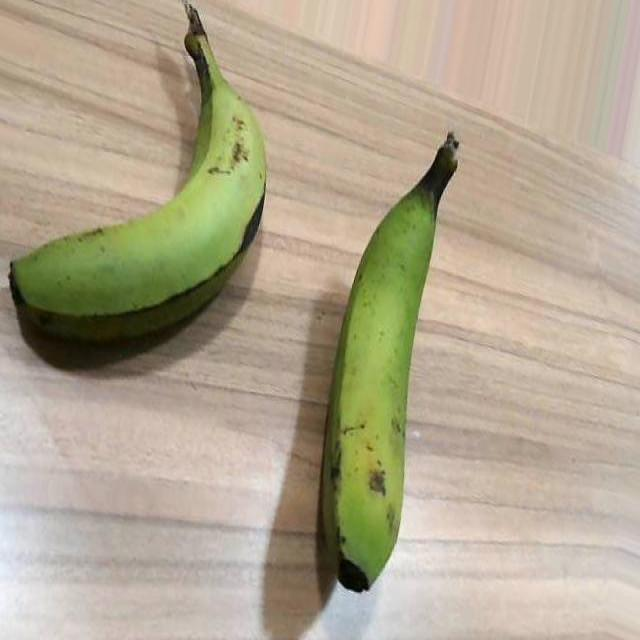Unripe: (9, 0, 271, 351), (319, 131, 463, 595)
